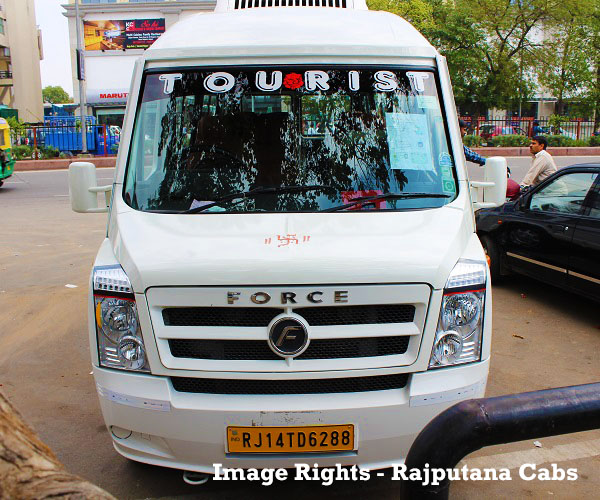numberplate: (224, 424, 354, 453)
